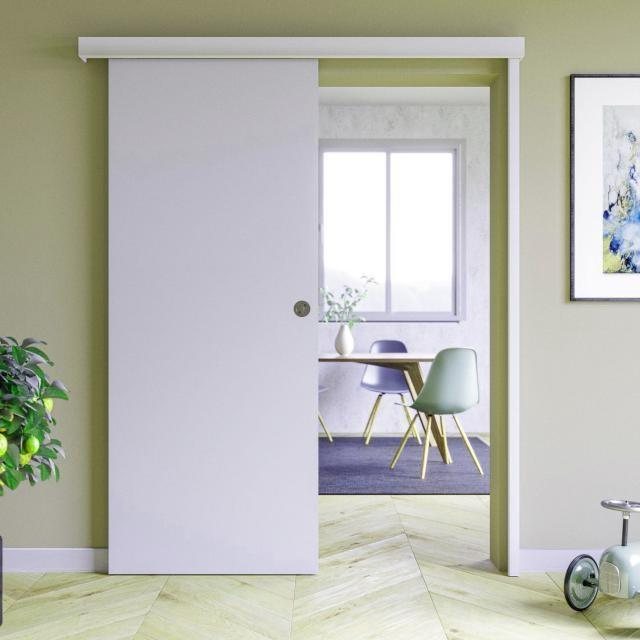door: (105, 57, 320, 575)
